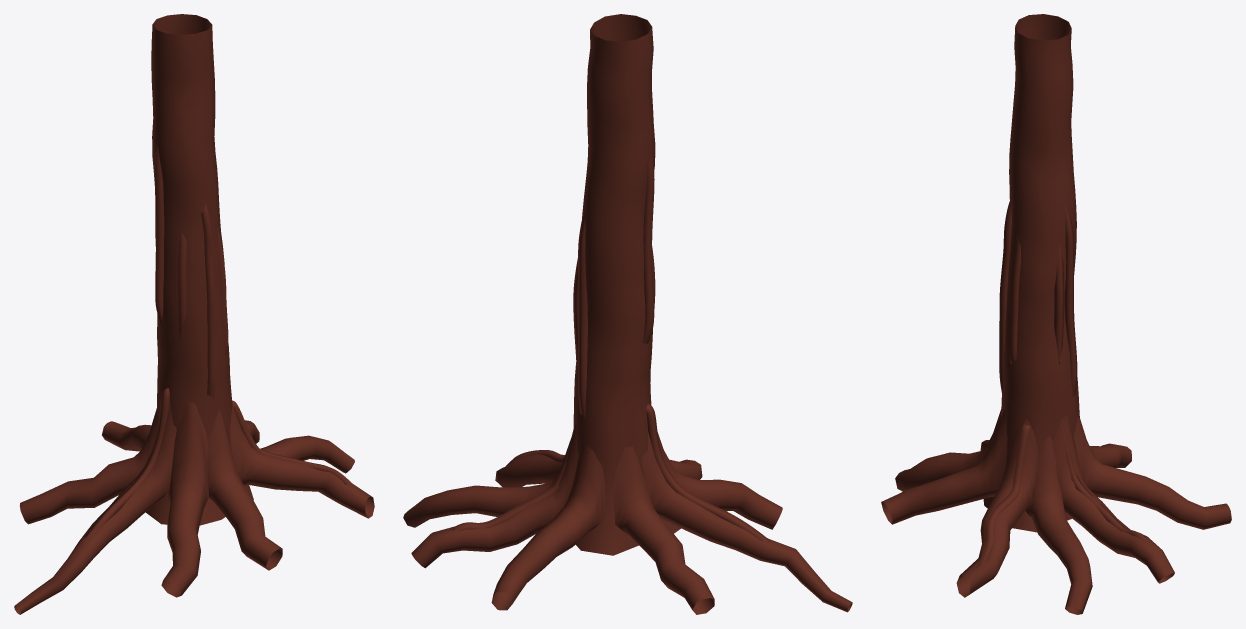
Rendered from SMFol_Redwood.fbx.
3 renders of one model, left to right at view 1: azimuth 30°, elevation 25°; view 2: azimuth 150°, elevation 25°; view 3: azimuth 270°, elevation 25°, orthographic. The views are drawn at different scales.
Parts seen in each view (by area): view 1: LOD0.002; view 2: LOD0.002; view 3: LOD0.002.
Boxes of the visible parts, bbox=[...] form: LOD0.002: bbox=[14, 14, 374, 614]; LOD0.002: bbox=[403, 14, 852, 614]; LOD0.002: bbox=[881, 14, 1231, 614].
Bounding box in the file's own units: 2070 × 2743 × 1665.
